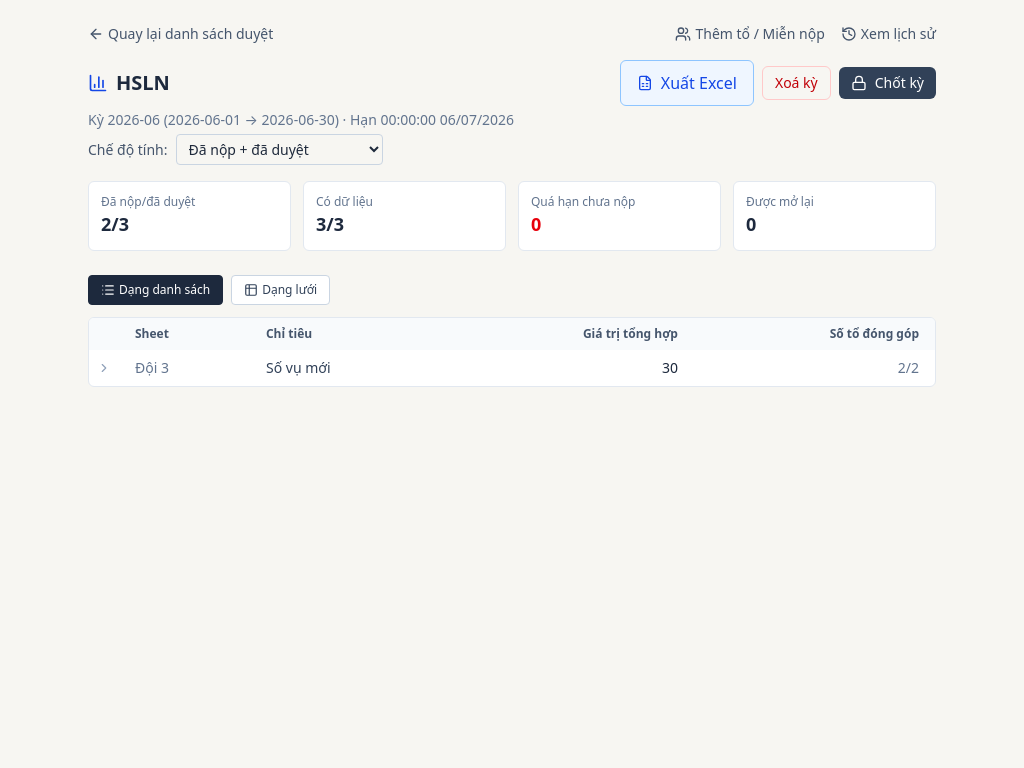
ReportPeriodSummaryPage › a period with figures offers no plain delete from this screen either
This screenshot has width=1024, height=768.
Click the button with test id "btn-delete-period-open" at [796, 83], box [762, 66, 831, 100]
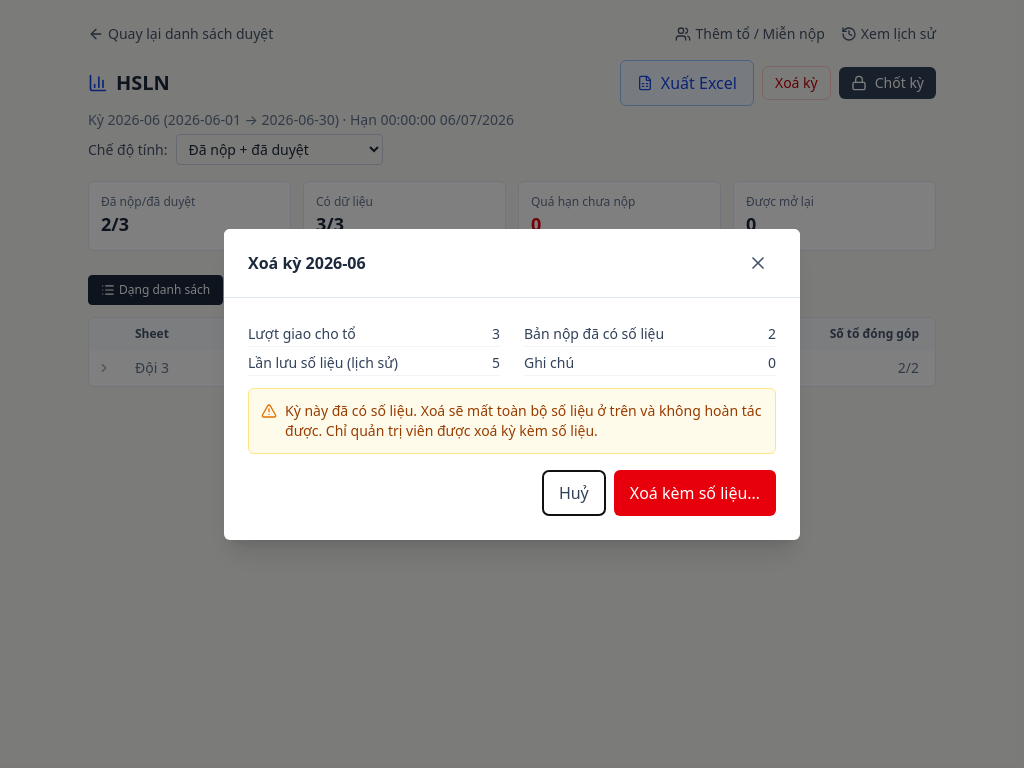
Expected: the element with test id "period-delete-has-data" is shown, [248, 388, 776, 454]
